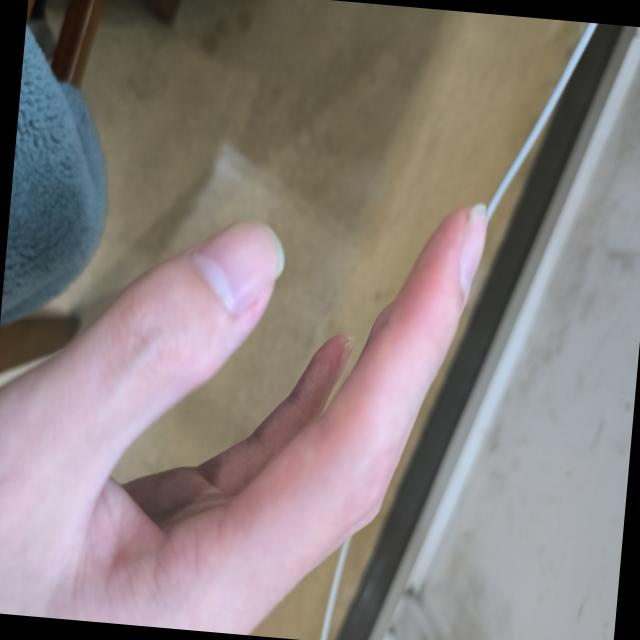Nail: (191, 220, 282, 315), (459, 204, 485, 293), (331, 338, 353, 386)
